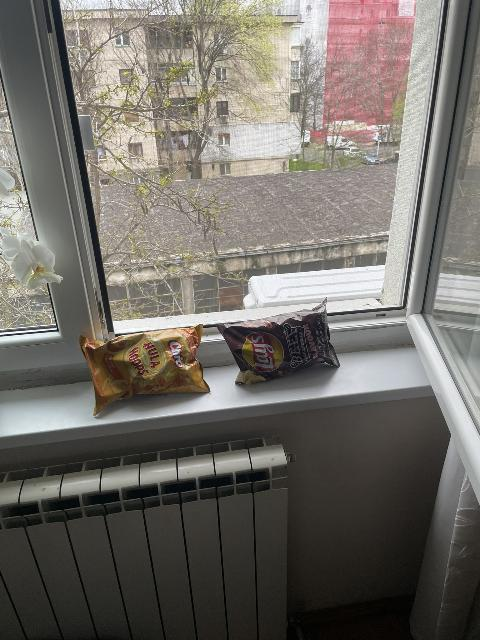Chio Hula Hoops Cheese 70g: (79, 325, 209, 415)
Lays Beef Grilled Ribs 125g: (216, 298, 340, 386)
